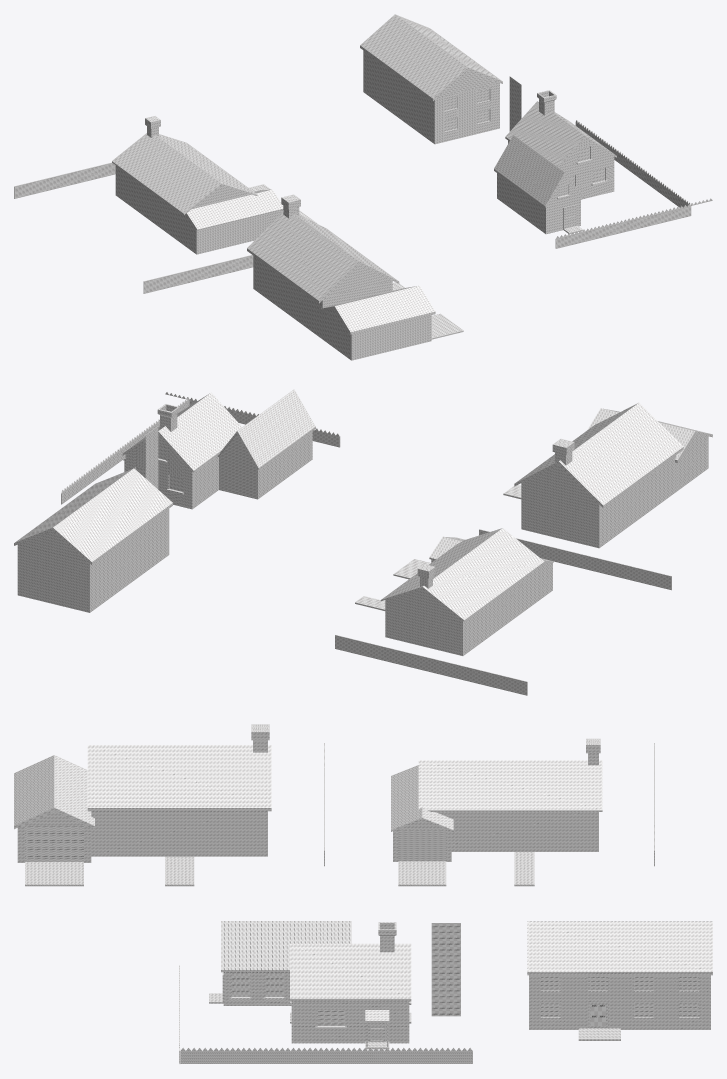
File: simpson-blockb.obj
The picture shows the model from 3 angles, top to bottom: view 1: azimuth 30°, elevation 25°; view 2: azimuth 150°, elevation 25°; view 3: azimuth 270°, elevation 25°; orthographic projection. The views are drawn at different scales.
Parts seen in each view (by area): view 1: entity0_brush44, entity0_brush91, entity0_brush28, entity0_brush46, entity0_brush93, entity0_brush38, entity0_brush42, entity0_brush258, entity0_brush259, entity0_brush31, entity0_brush29, entity0_brush10 (+15 smaller); view 2: entity0_brush93, entity0_brush46, entity0_brush44, entity0_brush31, entity0_brush91, entity0_brush28, entity0_brush259, entity0_brush201, entity0_brush258, entity0_brush9, entity0_brush10, entity0_brush21 (+11 smaller); view 3: entity0_brush45, entity0_brush92, entity0_brush21, entity0_brush46, entity0_brush260, entity0_brush31, entity0_brush257, entity0_brush8, entity0_brush267, entity0_brush42, entity0_brush36, entity0_brush248 (+17 smaller).
Part boxes in pixels (left/top/right/bottom): entity0_brush44: left=247, top=212, right=358, bottom=303; entity0_brush91: left=360, top=14, right=467, bottom=100; entity0_brush28: left=112, top=133, right=221, bottom=214; entity0_brush46: left=253, top=256, right=392, bottom=339; entity0_brush93: left=363, top=50, right=433, bottom=143; entity0_brush38: left=322, top=311, right=429, bottom=360; entity0_brush42: left=334, top=285, right=435, bottom=334; entity0_brush258: left=494, top=135, right=564, bottom=207; entity0_brush259: left=505, top=101, right=584, bottom=167; entity0_brush31: left=115, top=165, right=184, bottom=245; entity0_brush29: left=185, top=214, right=266, bottom=254; entity0_brush10: left=143, top=255, right=253, bottom=293; entity0_brush93: left=19, top=509, right=168, bottom=612; entity0_brush46: left=521, top=455, right=676, bottom=548; entity0_brush44: left=559, top=405, right=683, bottom=508; entity0_brush31: left=385, top=566, right=540, bottom=655; entity0_brush91: left=53, top=468, right=172, bottom=564; entity0_brush28: left=422, top=528, right=544, bottom=621; entity0_brush259: left=158, top=392, right=241, bottom=472; entity0_brush201: left=220, top=432, right=311, bottom=499; entity0_brush258: left=237, top=389, right=315, bottom=470; entity0_brush9: left=335, top=635, right=527, bottom=695; entity0_brush10: left=479, top=529, right=671, bottom=590; entity0_brush21: left=380, top=528, right=502, bottom=601; entity0_brush45: left=87, top=745, right=271, bottom=811; entity0_brush92: left=527, top=921, right=712, bottom=975; entity0_brush21: left=418, top=760, right=602, bottom=811; entity0_brush46: left=91, top=811, right=267, bottom=856; entity0_brush260: left=290, top=943, right=411, bottom=1001; entity0_brush31: left=435, top=812, right=598, bottom=851; entity0_brush257: left=221, top=921, right=351, bottom=972; entity0_brush8: left=197, top=1051, right=472, bottom=1063; entity0_brush267: left=431, top=923, right=460, bottom=1016; entity0_brush42: left=14, top=755, right=54, bottom=829; entity0_brush36: left=25, top=826, right=83, bottom=861; entity0_brush248: left=293, top=1026, right=409, bottom=1043.
Bounding box in the file's own units: 3275 × 520 × 3040.
